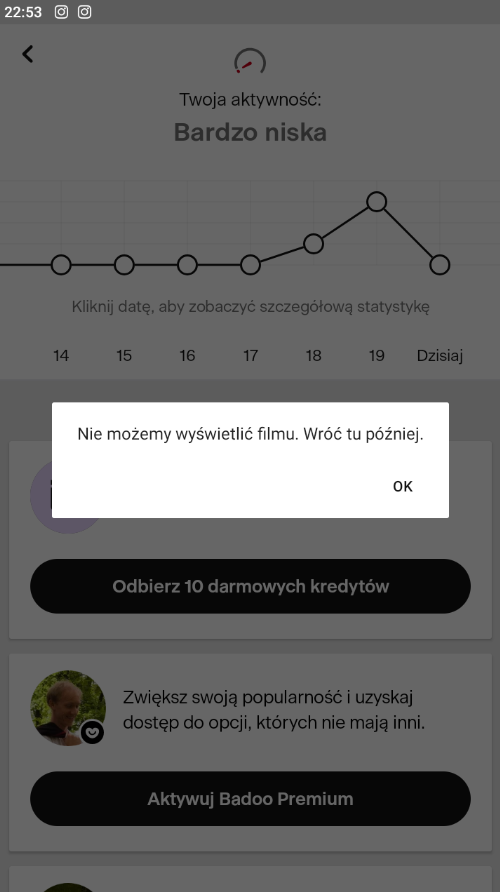ok_button: (385, 471, 419, 500)
